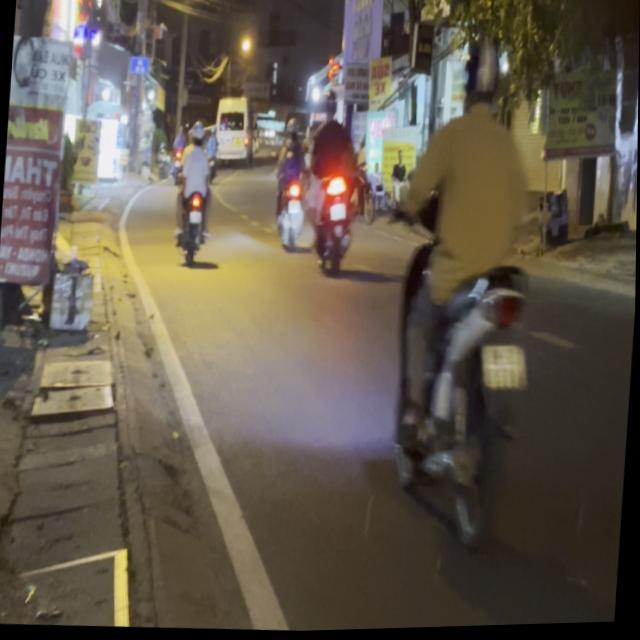helmet: (460, 40, 507, 119)
licenseplate: (378, 33, 558, 551)
nohelmet: (482, 345, 531, 392)
